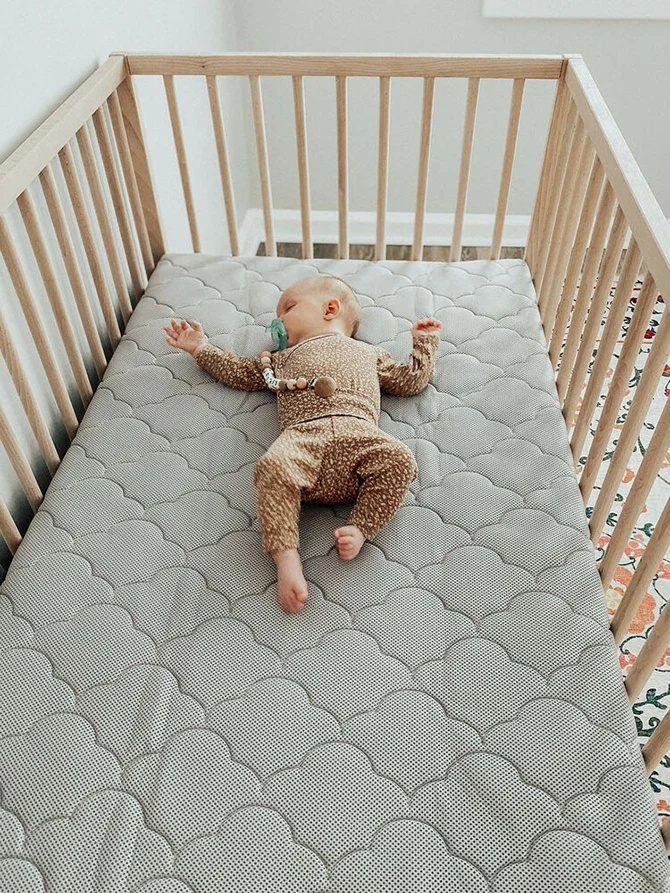baby: (164, 275, 441, 611)
crib: (0, 54, 669, 892)
